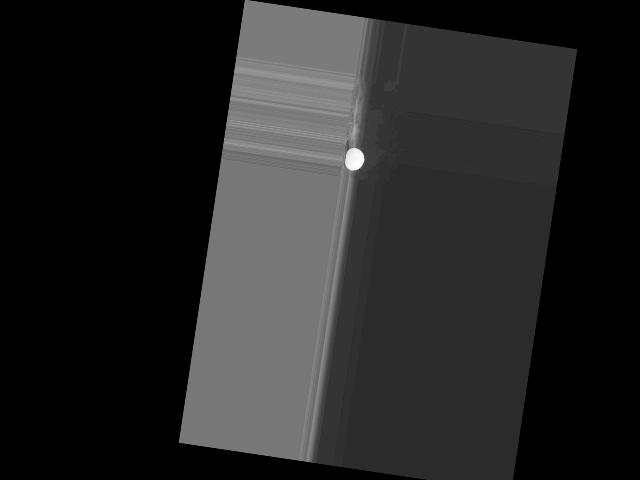egg: (344, 146, 365, 171)
